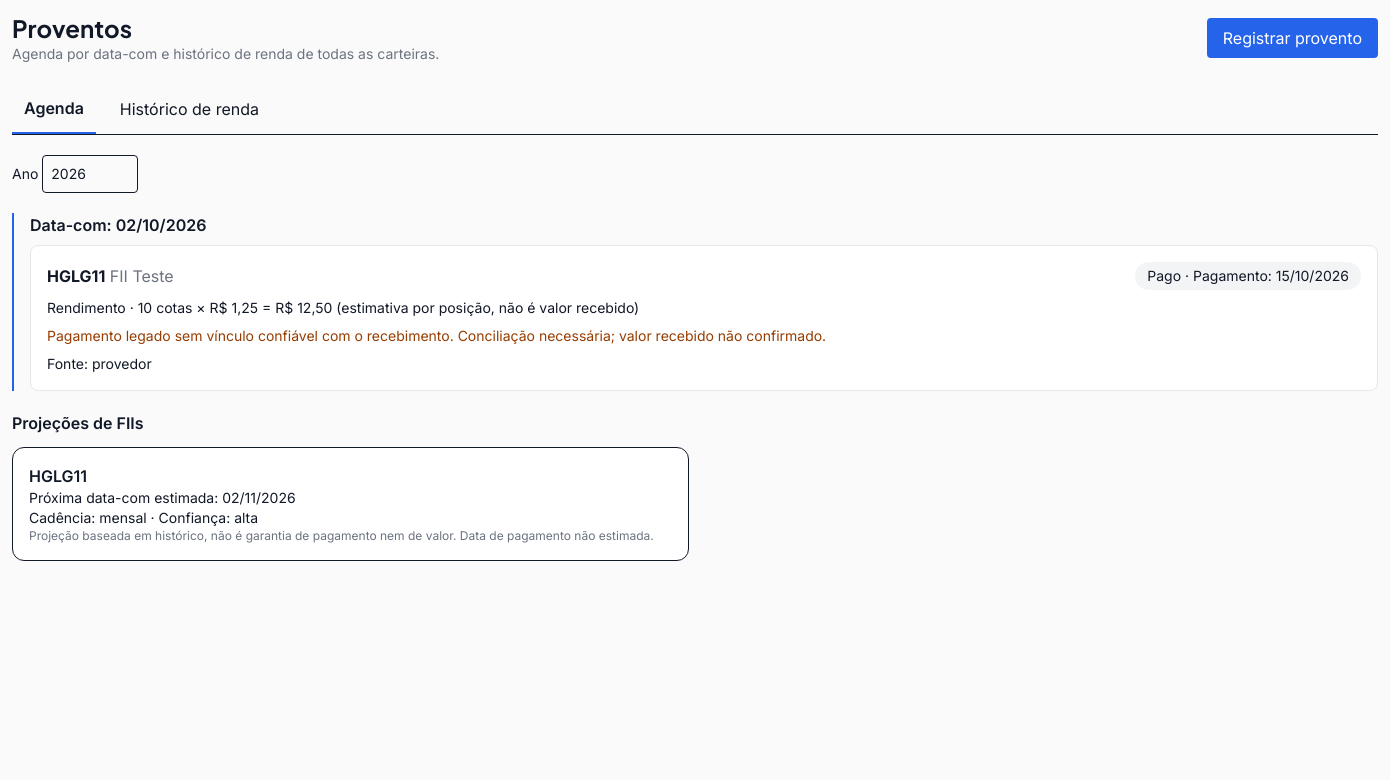
Test: dividend page › marks legacy paid item for reconciliation and shows incomplete zero as a partial total, not received income
The image size is (1390, 780).
Expected: the text "Pagamento legado sem vínculo confiável" is shown, [47, 327, 826, 344]
Expected: the text "estimativa por posição, não é valor recebido" is shown, [332, 299, 639, 316]
Click the tab "Histórico de renda" at (189, 109), box [108, 84, 271, 134]
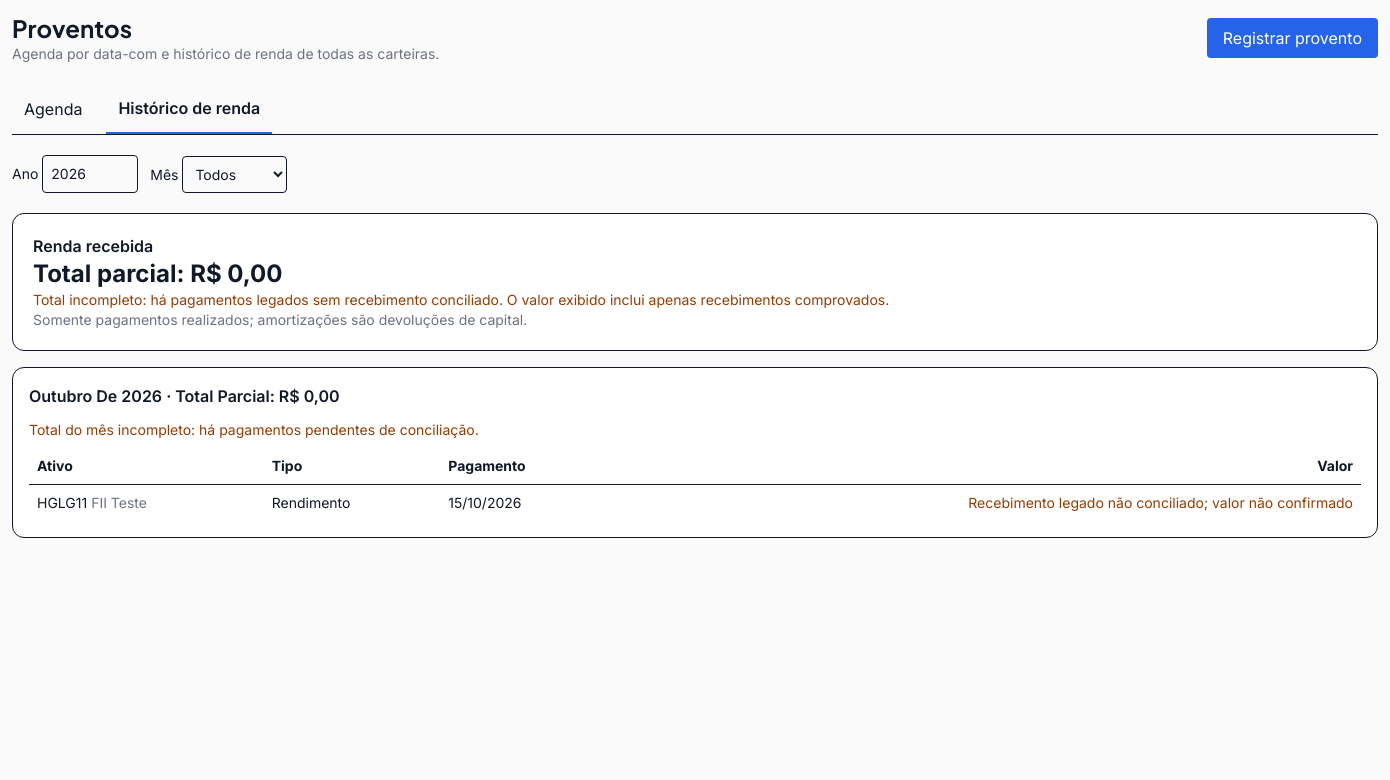
Now the text "Total parcial: R$ 0,00" is shown, box [33, 259, 282, 288]
Now the text "Total incompleto: há pagamentos legados" is shown, box [33, 291, 889, 308]
Now the text "Total do mês incompleto: há pagamentos pendentes de conciliação." is shown, box [29, 421, 479, 438]
